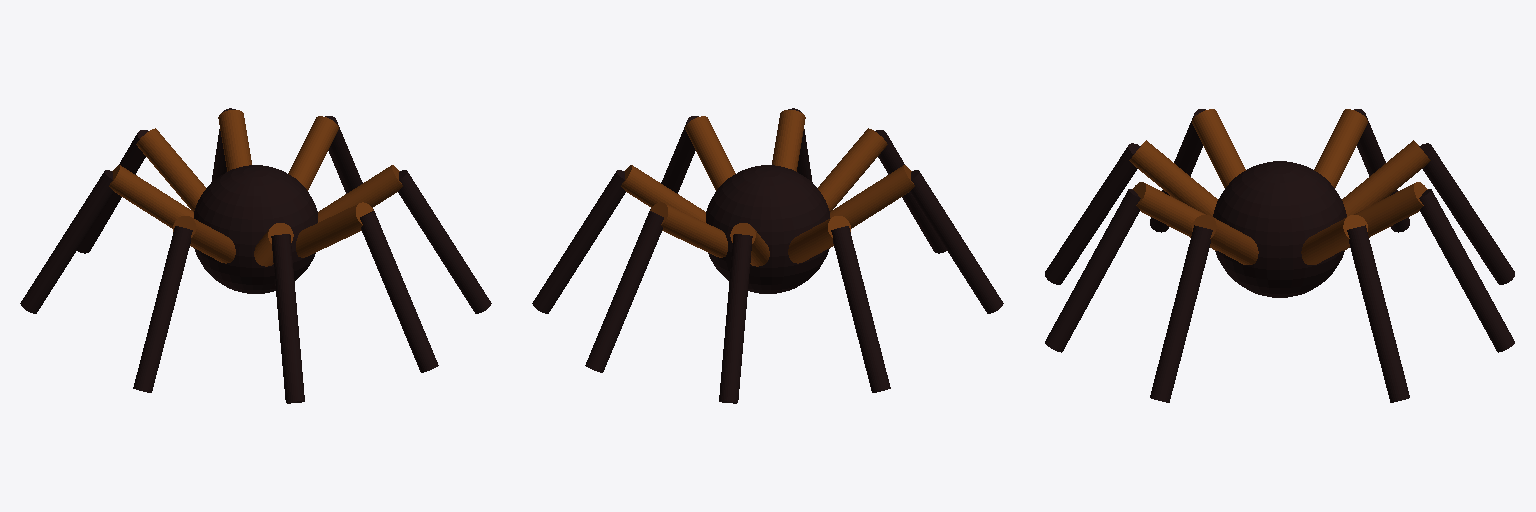
robot.urdf — spider:
<?xml version="1.0"?>
<robot name="spider">
  <material name="black"><color rgba="0.15 0.1 0.1 1"/></material>
  <material name="brown"><color rgba="0.45 0.25 0.1 1"/></material>
  <link name="body">
    <visual><geometry><sphere radius="0.1"/></geometry><material name="black"/></visual>
    <collision><geometry><sphere radius="0.1"/></geometry></collision>
    <inertial><mass value="2.0"/><inertia ixx="0.0080" iyy="0.0080" izz="0.0080" ixy="0" ixz="0" iyz="0"/></inertial>
  </link>
  <link name="L1_femur">
    <visual><origin xyz="0.0655 0 0.0459" rpy="0 0.95993 0"/><geometry><cylinder radius="0.02" length="0.16"/></geometry><material name="brown"/></visual>
    <collision><origin xyz="0.0655 0 0.0459" rpy="0 0.95993 0"/><geometry><cylinder radius="0.02" length="0.16"/></geometry></collision>
    <inertial><origin xyz="0.0655 0 0.0459" rpy="0 0.95993 0"/><mass value="0.1"/><inertia ixx="2.233e-04" iyy="2.233e-04" izz="2.000e-05" ixy="0" ixz="0" iyz="0"/></inertial>
  </link>
  <link name="L1_tibia">
    <visual><origin xyz="0.0650 0 -0.1126" rpy="0 2.61799 0"/><geometry><cylinder radius="0.015" length="0.26"/></geometry><material name="black"/></visual>
    <collision><origin xyz="0.0650 0 -0.1126" rpy="0 2.61799 0"/><geometry><cylinder radius="0.015" length="0.26"/></geometry></collision>
    <inertial><origin xyz="0.0650 0 -0.1126" rpy="0 2.61799 0"/><mass value="0.12"/><inertia ixx="6.828e-04" iyy="6.828e-04" izz="1.350e-05" ixy="0" ixz="0" iyz="0"/></inertial>
  </link>
  <joint name="L1_hip" type="revolute">
    <parent link="body"/><child link="L1_femur"/>
    <origin xyz="0.0779 0.0450 0" rpy="0 0 0.52360"/><axis xyz="0 0 1"/>
    <limit lower="-0.8" upper="0.8" effort="15" velocity="12"/>
  </joint>
  <joint name="L1_knee" type="revolute">
    <parent link="L1_femur"/><child link="L1_tibia"/>
    <origin xyz="0.1311 0 0.0918"/><axis xyz="0 1 0"/>
    <limit lower="-1.0" upper="1.0" effort="15" velocity="12"/>
  </joint>
  <link name="L2_femur">
    <visual><origin xyz="0.0655 0 0.0459" rpy="0 0.95993 0"/><geometry><cylinder radius="0.02" length="0.16"/></geometry><material name="brown"/></visual>
    <collision><origin xyz="0.0655 0 0.0459" rpy="0 0.95993 0"/><geometry><cylinder radius="0.02" length="0.16"/></geometry></collision>
    <inertial><origin xyz="0.0655 0 0.0459" rpy="0 0.95993 0"/><mass value="0.1"/><inertia ixx="2.233e-04" iyy="2.233e-04" izz="2.000e-05" ixy="0" ixz="0" iyz="0"/></inertial>
  </link>
  <link name="L2_tibia">
    <visual><origin xyz="0.0650 0 -0.1126" rpy="0 2.61799 0"/><geometry><cylinder radius="0.015" length="0.26"/></geometry><material name="black"/></visual>
    <collision><origin xyz="0.0650 0 -0.1126" rpy="0 2.61799 0"/><geometry><cylinder radius="0.015" length="0.26"/></geometry></collision>
    <inertial><origin xyz="0.0650 0 -0.1126" rpy="0 2.61799 0"/><mass value="0.12"/><inertia ixx="6.828e-04" iyy="6.828e-04" izz="1.350e-05" ixy="0" ixz="0" iyz="0"/></inertial>
  </link>
  <joint name="L2_hip" type="revolute">
    <parent link="body"/><child link="L2_femur"/>
    <origin xyz="0.0308 0.0846 0" rpy="0 0 1.22173"/><axis xyz="0 0 1"/>
    <limit lower="-0.8" upper="0.8" effort="15" velocity="12"/>
  </joint>
  <joint name="L2_knee" type="revolute">
    <parent link="L2_femur"/><child link="L2_tibia"/>
    <origin xyz="0.1311 0 0.0918"/><axis xyz="0 1 0"/>
    <limit lower="-1.0" upper="1.0" effort="15" velocity="12"/>
  </joint>
  <link name="L3_femur">
    <visual><origin xyz="0.0655 0 0.0459" rpy="0 0.95993 0"/><geometry><cylinder radius="0.02" length="0.16"/></geometry><material name="brown"/></visual>
    <collision><origin xyz="0.0655 0 0.0459" rpy="0 0.95993 0"/><geometry><cylinder radius="0.02" length="0.16"/></geometry></collision>
    <inertial><origin xyz="0.0655 0 0.0459" rpy="0 0.95993 0"/><mass value="0.1"/><inertia ixx="2.233e-04" iyy="2.233e-04" izz="2.000e-05" ixy="0" ixz="0" iyz="0"/></inertial>
  </link>
  <link name="L3_tibia">
    <visual><origin xyz="0.0650 0 -0.1126" rpy="0 2.61799 0"/><geometry><cylinder radius="0.015" length="0.26"/></geometry><material name="black"/></visual>
    <collision><origin xyz="0.0650 0 -0.1126" rpy="0 2.61799 0"/><geometry><cylinder radius="0.015" length="0.26"/></geometry></collision>
    <inertial><origin xyz="0.0650 0 -0.1126" rpy="0 2.61799 0"/><mass value="0.12"/><inertia ixx="6.828e-04" iyy="6.828e-04" izz="1.350e-05" ixy="0" ixz="0" iyz="0"/></inertial>
  </link>
  <joint name="L3_hip" type="revolute">
    <parent link="body"/><child link="L3_femur"/>
    <origin xyz="-0.0308 0.0846 0" rpy="0 0 1.91986"/><axis xyz="0 0 1"/>
    <limit lower="-0.8" upper="0.8" effort="15" velocity="12"/>
  </joint>
  <joint name="L3_knee" type="revolute">
    <parent link="L3_femur"/><child link="L3_tibia"/>
    <origin xyz="0.1311 0 0.0918"/><axis xyz="0 1 0"/>
    <limit lower="-1.0" upper="1.0" effort="15" velocity="12"/>
  </joint>
  <link name="L4_femur">
    <visual><origin xyz="0.0655 0 0.0459" rpy="0 0.95993 0"/><geometry><cylinder radius="0.02" length="0.16"/></geometry><material name="brown"/></visual>
    <collision><origin xyz="0.0655 0 0.0459" rpy="0 0.95993 0"/><geometry><cylinder radius="0.02" length="0.16"/></geometry></collision>
    <inertial><origin xyz="0.0655 0 0.0459" rpy="0 0.95993 0"/><mass value="0.1"/><inertia ixx="2.233e-04" iyy="2.233e-04" izz="2.000e-05" ixy="0" ixz="0" iyz="0"/></inertial>
  </link>
  <link name="L4_tibia">
    <visual><origin xyz="0.0650 0 -0.1126" rpy="0 2.61799 0"/><geometry><cylinder radius="0.015" length="0.26"/></geometry><material name="black"/></visual>
    <collision><origin xyz="0.0650 0 -0.1126" rpy="0 2.61799 0"/><geometry><cylinder radius="0.015" length="0.26"/></geometry></collision>
    <inertial><origin xyz="0.0650 0 -0.1126" rpy="0 2.61799 0"/><mass value="0.12"/><inertia ixx="6.828e-04" iyy="6.828e-04" izz="1.350e-05" ixy="0" ixz="0" iyz="0"/></inertial>
  </link>
  <joint name="L4_hip" type="revolute">
    <parent link="body"/><child link="L4_femur"/>
    <origin xyz="-0.0779 0.0450 0" rpy="0 0 2.61799"/><axis xyz="0 0 1"/>
    <limit lower="-0.8" upper="0.8" effort="15" velocity="12"/>
  </joint>
  <joint name="L4_knee" type="revolute">
    <parent link="L4_femur"/><child link="L4_tibia"/>
    <origin xyz="0.1311 0 0.0918"/><axis xyz="0 1 0"/>
    <limit lower="-1.0" upper="1.0" effort="15" velocity="12"/>
  </joint>
  <link name="R1_femur">
    <visual><origin xyz="0.0655 0 0.0459" rpy="0 0.95993 0"/><geometry><cylinder radius="0.02" length="0.16"/></geometry><material name="brown"/></visual>
    <collision><origin xyz="0.0655 0 0.0459" rpy="0 0.95993 0"/><geometry><cylinder radius="0.02" length="0.16"/></geometry></collision>
    <inertial><origin xyz="0.0655 0 0.0459" rpy="0 0.95993 0"/><mass value="0.1"/><inertia ixx="2.233e-04" iyy="2.233e-04" izz="2.000e-05" ixy="0" ixz="0" iyz="0"/></inertial>
  </link>
  <link name="R1_tibia">
    <visual><origin xyz="0.0650 0 -0.1126" rpy="0 2.61799 0"/><geometry><cylinder radius="0.015" length="0.26"/></geometry><material name="black"/></visual>
    <collision><origin xyz="0.0650 0 -0.1126" rpy="0 2.61799 0"/><geometry><cylinder radius="0.015" length="0.26"/></geometry></collision>
    <inertial><origin xyz="0.0650 0 -0.1126" rpy="0 2.61799 0"/><mass value="0.12"/><inertia ixx="6.828e-04" iyy="6.828e-04" izz="1.350e-05" ixy="0" ixz="0" iyz="0"/></inertial>
  </link>
  <joint name="R1_hip" type="revolute">
    <parent link="body"/><child link="R1_femur"/>
    <origin xyz="0.0779 -0.0450 0" rpy="0 0 -0.52360"/><axis xyz="0 0 1"/>
    <limit lower="-0.8" upper="0.8" effort="15" velocity="12"/>
  </joint>
  <joint name="R1_knee" type="revolute">
    <parent link="R1_femur"/><child link="R1_tibia"/>
    <origin xyz="0.1311 0 0.0918"/><axis xyz="0 1 0"/>
    <limit lower="-1.0" upper="1.0" effort="15" velocity="12"/>
  </joint>
  <link name="R2_femur">
    <visual><origin xyz="0.0655 0 0.0459" rpy="0 0.95993 0"/><geometry><cylinder radius="0.02" length="0.16"/></geometry><material name="brown"/></visual>
    <collision><origin xyz="0.0655 0 0.0459" rpy="0 0.95993 0"/><geometry><cylinder radius="0.02" length="0.16"/></geometry></collision>
    <inertial><origin xyz="0.0655 0 0.0459" rpy="0 0.95993 0"/><mass value="0.1"/><inertia ixx="2.233e-04" iyy="2.233e-04" izz="2.000e-05" ixy="0" ixz="0" iyz="0"/></inertial>
  </link>
  <link name="R2_tibia">
    <visual><origin xyz="0.0650 0 -0.1126" rpy="0 2.61799 0"/><geometry><cylinder radius="0.015" length="0.26"/></geometry><material name="black"/></visual>
    <collision><origin xyz="0.0650 0 -0.1126" rpy="0 2.61799 0"/><geometry><cylinder radius="0.015" length="0.26"/></geometry></collision>
    <inertial><origin xyz="0.0650 0 -0.1126" rpy="0 2.61799 0"/><mass value="0.12"/><inertia ixx="6.828e-04" iyy="6.828e-04" izz="1.350e-05" ixy="0" ixz="0" iyz="0"/></inertial>
  </link>
  <joint name="R2_hip" type="revolute">
    <parent link="body"/><child link="R2_femur"/>
    <origin xyz="0.0308 -0.0846 0" rpy="0 0 -1.22173"/><axis xyz="0 0 1"/>
    <limit lower="-0.8" upper="0.8" effort="15" velocity="12"/>
  </joint>
  <joint name="R2_knee" type="revolute">
    <parent link="R2_femur"/><child link="R2_tibia"/>
    <origin xyz="0.1311 0 0.0918"/><axis xyz="0 1 0"/>
    <limit lower="-1.0" upper="1.0" effort="15" velocity="12"/>
  </joint>
  <link name="R3_femur">
    <visual><origin xyz="0.0655 0 0.0459" rpy="0 0.95993 0"/><geometry><cylinder radius="0.02" length="0.16"/></geometry><material name="brown"/></visual>
    <collision><origin xyz="0.0655 0 0.0459" rpy="0 0.95993 0"/><geometry><cylinder radius="0.02" length="0.16"/></geometry></collision>
    <inertial><origin xyz="0.0655 0 0.0459" rpy="0 0.95993 0"/><mass value="0.1"/><inertia ixx="2.233e-04" iyy="2.233e-04" izz="2.000e-05" ixy="0" ixz="0" iyz="0"/></inertial>
  </link>
  <link name="R3_tibia">
    <visual><origin xyz="0.0650 0 -0.1126" rpy="0 2.61799 0"/><geometry><cylinder radius="0.015" length="0.26"/></geometry><material name="black"/></visual>
    <collision><origin xyz="0.0650 0 -0.1126" rpy="0 2.61799 0"/><geometry><cylinder radius="0.015" length="0.26"/></geometry></collision>
    <inertial><origin xyz="0.0650 0 -0.1126" rpy="0 2.61799 0"/><mass value="0.12"/><inertia ixx="6.828e-04" iyy="6.828e-04" izz="1.350e-05" ixy="0" ixz="0" iyz="0"/></inertial>
  </link>
  <joint name="R3_hip" type="revolute">
    <parent link="body"/><child link="R3_femur"/>
    <origin xyz="-0.0308 -0.0846 0" rpy="0 0 -1.91986"/><axis xyz="0 0 1"/>
    <limit lower="-0.8" upper="0.8" effort="15" velocity="12"/>
  </joint>
  <joint name="R3_knee" type="revolute">
    <parent link="R3_femur"/><child link="R3_tibia"/>
    <origin xyz="0.1311 0 0.0918"/><axis xyz="0 1 0"/>
    <limit lower="-1.0" upper="1.0" effort="15" velocity="12"/>
  </joint>
  <link name="R4_femur">
    <visual><origin xyz="0.0655 0 0.0459" rpy="0 0.95993 0"/><geometry><cylinder radius="0.02" length="0.16"/></geometry><material name="brown"/></visual>
    <collision><origin xyz="0.0655 0 0.0459" rpy="0 0.95993 0"/><geometry><cylinder radius="0.02" length="0.16"/></geometry></collision>
    <inertial><origin xyz="0.0655 0 0.0459" rpy="0 0.95993 0"/><mass value="0.1"/><inertia ixx="2.233e-04" iyy="2.233e-04" izz="2.000e-05" ixy="0" ixz="0" iyz="0"/></inertial>
  </link>
  <link name="R4_tibia">
    <visual><origin xyz="0.0650 0 -0.1126" rpy="0 2.61799 0"/><geometry><cylinder radius="0.015" length="0.26"/></geometry><material name="black"/></visual>
    <collision><origin xyz="0.0650 0 -0.1126" rpy="0 2.61799 0"/><geometry><cylinder radius="0.015" length="0.26"/></geometry></collision>
    <inertial><origin xyz="0.0650 0 -0.1126" rpy="0 2.61799 0"/><mass value="0.12"/><inertia ixx="6.828e-04" iyy="6.828e-04" izz="1.350e-05" ixy="0" ixz="0" iyz="0"/></inertial>
  </link>
  <joint name="R4_hip" type="revolute">
    <parent link="body"/><child link="R4_femur"/>
    <origin xyz="-0.0779 -0.0450 0" rpy="0 0 -2.61799"/><axis xyz="0 0 1"/>
    <limit lower="-0.8" upper="0.8" effort="15" velocity="12"/>
  </joint>
  <joint name="R4_knee" type="revolute">
    <parent link="R4_femur"/><child link="R4_tibia"/>
    <origin xyz="0.1311 0 0.0918"/><axis xyz="0 1 0"/>
    <limit lower="-1.0" upper="1.0" effort="15" velocity="12"/>
  </joint>
</robot>

--- What the picture shows (computed from the rendered views, not written in the file) ---
The picture shows the robot from 3 angles, left to right: view 1: azimuth 30°, elevation 25°; view 2: azimuth 150°, elevation 25°; view 3: azimuth 270°, elevation 25°; orthographic projection.
Robot: spider — 17 links, 16 joints (16 revolute); root link body; default pose: all joints at 0.
Links seen in each view (by area): view 1: body, R3_tibia, R4_tibia, R2_tibia, L4_tibia, R1_tibia, L3_femur, L4_femur, R2_femur, L1_femur, R1_femur, L2_femur (+4 smaller); view 2: body, L3_tibia, L4_tibia, L2_tibia, L1_tibia, R4_tibia, R3_femur, R4_femur, L2_femur, R1_femur, L1_femur, R2_femur (+4 smaller); view 3: body, L1_tibia, R1_tibia, L2_tibia, R2_tibia, L3_tibia, R3_tibia, L3_femur, R3_femur, L4_femur, R4_femur, L2_femur (+5 smaller).
Link boxes in pixels (x1,y1,x2,y2): body: (194,165,317,293); R3_tibia: (271,234,304,403); R4_tibia: (133,226,192,392); R2_tibia: (360,211,438,372); L4_tibia: (20,170,113,313); R1_tibia: (398,170,491,313); L3_femur: (136,128,205,211); L4_femur: (109,165,193,228); R2_femur: (296,202,373,257); L1_femur: (288,116,338,190); R1_femur: (318,165,402,222); L2_femur: (218,110,251,171); body: (706,165,829,293); L3_tibia: (719,234,752,403); L4_tibia: (831,226,890,392); L2_tibia: (585,211,663,372); L1_tibia: (532,170,625,313); R4_tibia: (910,170,1003,313); R3_femur: (818,128,887,211); R4_femur: (830,165,914,228); L2_femur: (650,202,727,257); R1_femur: (685,116,735,190); L1_femur: (621,165,705,222); R2_femur: (772,110,805,171); body: (1213,161,1346,297); L1_tibia: (1347,225,1409,402); R1_tibia: (1150,225,1212,402); L2_tibia: (1419,189,1514,352); R2_tibia: (1045,189,1140,352); L3_tibia: (1419,143,1514,284); R3_tibia: (1045,143,1140,284); L3_femur: (1342,140,1430,216); R3_femur: (1129,140,1217,216); L4_femur: (1314,109,1367,187); R4_femur: (1192,109,1245,187); L2_femur: (1343,182,1427,250).
Size in the robot's own frame: 0.6351 by 0.6864 by 0.2491 metres.
Geometry: primitives only (box / cylinder / sphere), no mesh files.
